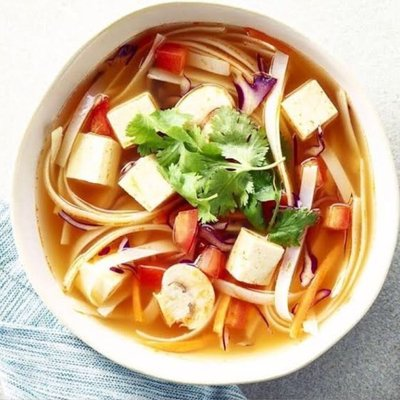curry: (266, 206, 319, 248)
sushi: (11, 0, 399, 379)
